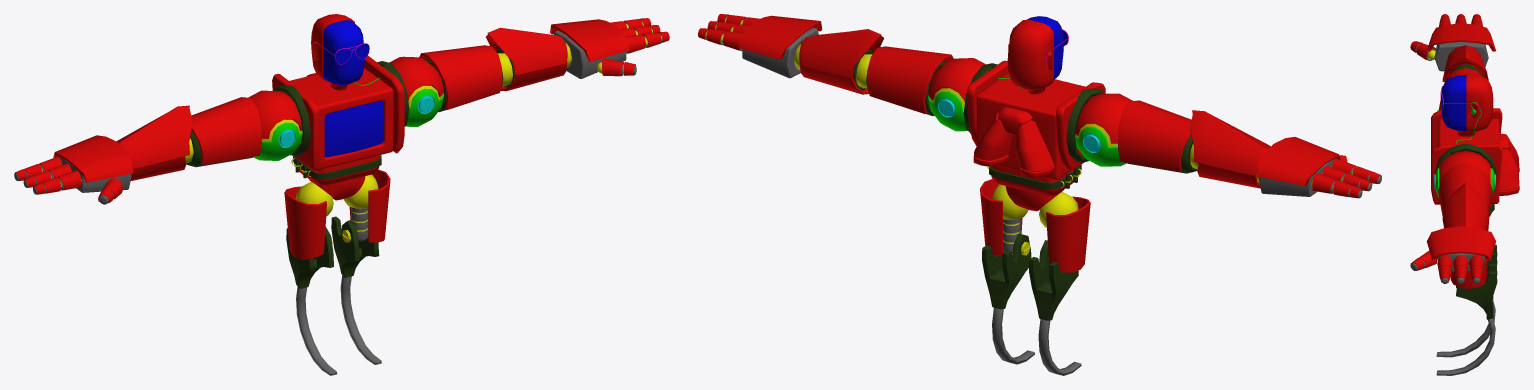
The model's file is BodyguardRobot.fbx.
3 views of the same model, side by side, from view 1: azimuth 30°, elevation 25°; view 2: azimuth 150°, elevation 25°; view 3: azimuth 270°, elevation 25° (orthographic). The views are drawn at different scales.
Parts seen in each view (by area): view 1: BodyGaurdRobot1_pSphere4_low; view 2: BodyGaurdRobot1_pSphere4_low; view 3: BodyGaurdRobot1_pSphere4_low.
Part boxes in pixels (left/top/right/bottom): BodyGaurdRobot1_pSphere4_low: left=14, top=14, right=669, bottom=375; BodyGaurdRobot1_pSphere4_low: left=698, top=14, right=1381, bottom=375; BodyGaurdRobot1_pSphere4_low: left=1410, top=14, right=1519, bottom=375.
Size of the model in its own units: 498 by 253 by 87.04.
